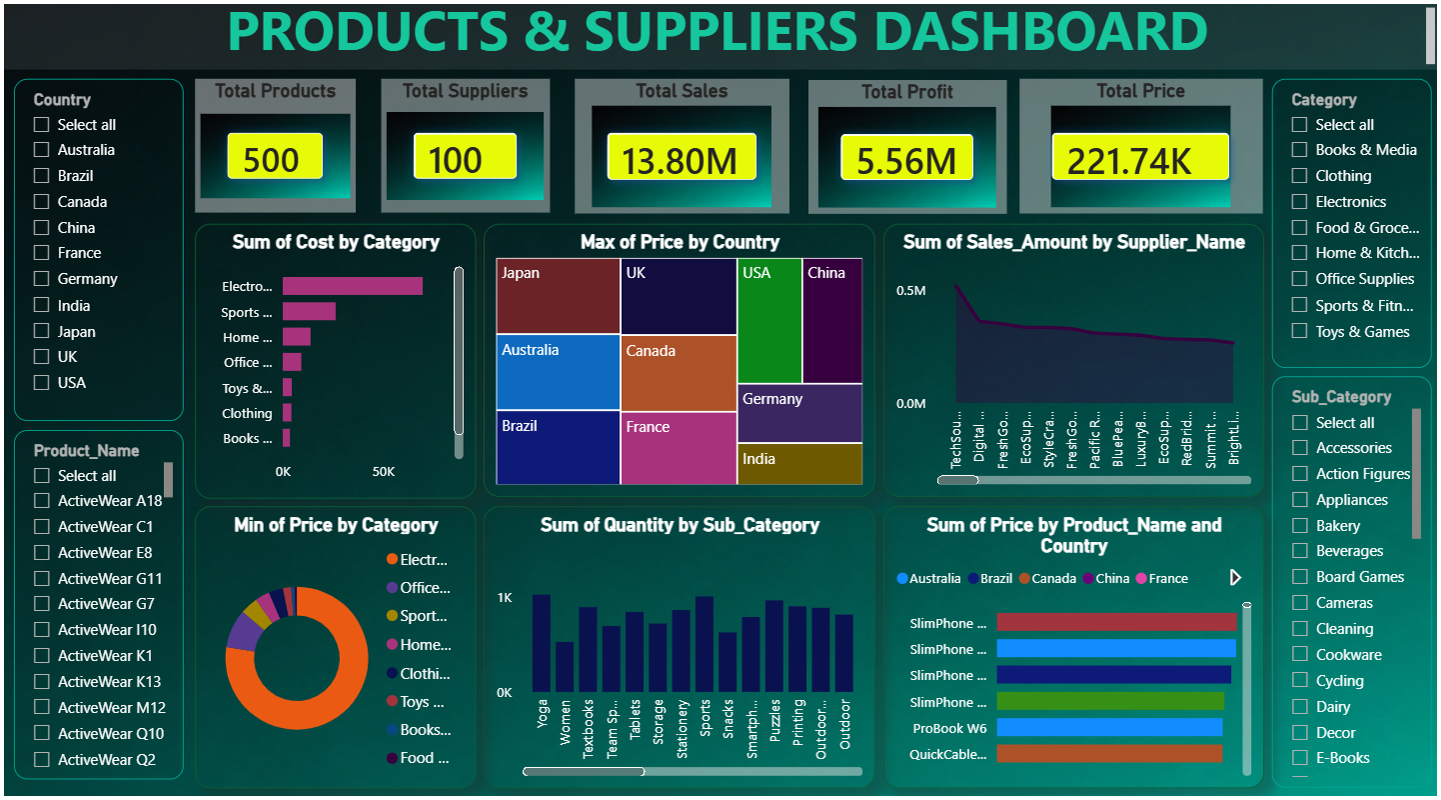

What the dashboard file says about the page in this screenshot:
{"tool":"powerbi","page":{"name":"Product & Supplier Dashboard","canvas":[1280,720],"ordinal":2},"visuals":[{"type":"cardVisual","title":"Total Products","fields":{"Data":["CountNonNull(Products.Product_ID)"]},"box":[170,74.4,143.3,118.9],"z":0},{"type":"textbox","box":[0,0,1280,66.7],"z":1000},{"type":"cardVisual","title":"Total Suppliers","fields":{"Data":["CountNonNull(Suppliers.Supplier_ID)"]},"box":[336.7,74.4,150,118.9],"z":2000},{"type":"cardVisual","title":"Total Sales","fields":{"Data":["Sum(Order_Details.Sales_Amount)"]},"box":[508.9,74.4,191.1,120],"z":3000},{"type":"cardVisual","title":"Total Profit","fields":{"Data":["Sum(Order_Details.Profit)"]},"box":[716.7,75.6,176.7,118.9],"z":4000},{"type":"cardVisual","title":"Total Price","fields":{"Data":["Sum(Products.Price)"]},"box":[905.6,74.4,216.7,120],"z":5000},{"type":"barChart","fields":{"Category":["Products.Category"],"Y":["Sum(Products.Cost)"]},"box":[170,203.3,250,244.4],"z":6000},{"type":"columnChart","fields":{"Category":["Products.Sub_Category"],"Y":["Sum(Order_Details.Quantity)"]},"box":[427.8,455.6,348.9,251.1],"z":7000},{"type":"areaChart","fields":{"Category":["Suppliers.Supplier_Name"],"Y":["Sum(Order_Details.Sales_Amount)"]},"box":[783.3,203.3,338.9,243.3],"z":8000},{"type":"donutChart","fields":{"Category":["Products.Category"],"Y":["Min(Products.Price)"]},"box":[170,455.6,250,251.1],"z":9000},{"type":"treemap","fields":{"Group":["Suppliers.Country"],"Values":["Max(Products.Price)"]},"box":[427.8,203.3,348.9,243.3],"z":10000},{"type":"barChart","fields":{"Category":["Products.Product_Name"],"Y":["Sum(Products.Price)"],"Series":["Suppliers.Country"]},"box":[783.3,455.6,338.9,251.1],"z":11000},{"type":"slicer","fields":{"Values":["Products.Category"]},"box":[1130,74.4,142.2,257.8],"z":12000},{"type":"slicer","fields":{"Values":["Products.Sub_Category"]},"box":[1130,340,142.2,366.7],"z":13000},{"type":"slicer","fields":{"Values":["Products.Product_Name"]},"box":[8.9,387.8,151.1,311.1],"z":14000},{"type":"slicer","fields":{"Values":["Suppliers.Country"]},"box":[8.9,74.4,151.1,304.4],"z":15000}]}

Visuals, with their boxes in screenshot pixels (x1, y1, x2, y2), scaled from the page's 1280x720 canvas onto the 1441x800 screenshot:
"Total Products" cardVisual: left=191, top=83, right=353, bottom=215
textbox: left=0, top=0, right=1440, bottom=74
"Total Suppliers" cardVisual: left=379, top=83, right=548, bottom=215
"Total Sales" cardVisual: left=573, top=83, right=788, bottom=216
"Total Profit" cardVisual: left=807, top=84, right=1006, bottom=216
"Total Price" cardVisual: left=1020, top=83, right=1263, bottom=216
barChart - Products.Category x Sum(Products.Cost): left=191, top=226, right=473, bottom=497
columnChart - Products.Sub_Category x Sum(Order_Details.Quantity): left=482, top=506, right=874, bottom=785
areaChart - Suppliers.Supplier_Name x Sum(Order_Details.Sales_Amount): left=882, top=226, right=1263, bottom=496
donutChart - Products.Category x Min(Products.Price): left=191, top=506, right=473, bottom=785
treemap - Suppliers.Country x Max(Products.Price): left=482, top=226, right=874, bottom=496
barChart - Products.Product_Name x Sum(Products.Price): left=882, top=506, right=1263, bottom=785
slicer - Products.Category: left=1272, top=83, right=1432, bottom=369
slicer - Products.Sub_Category: left=1272, top=378, right=1432, bottom=785
slicer - Products.Product_Name: left=10, top=431, right=180, bottom=777
slicer - Suppliers.Country: left=10, top=83, right=180, bottom=421
